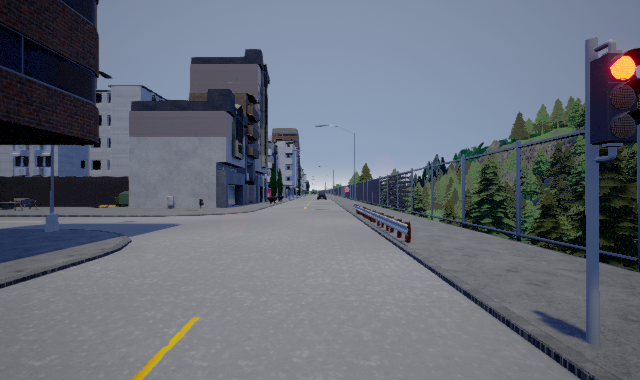traffic_light: (590, 39, 640, 163)
